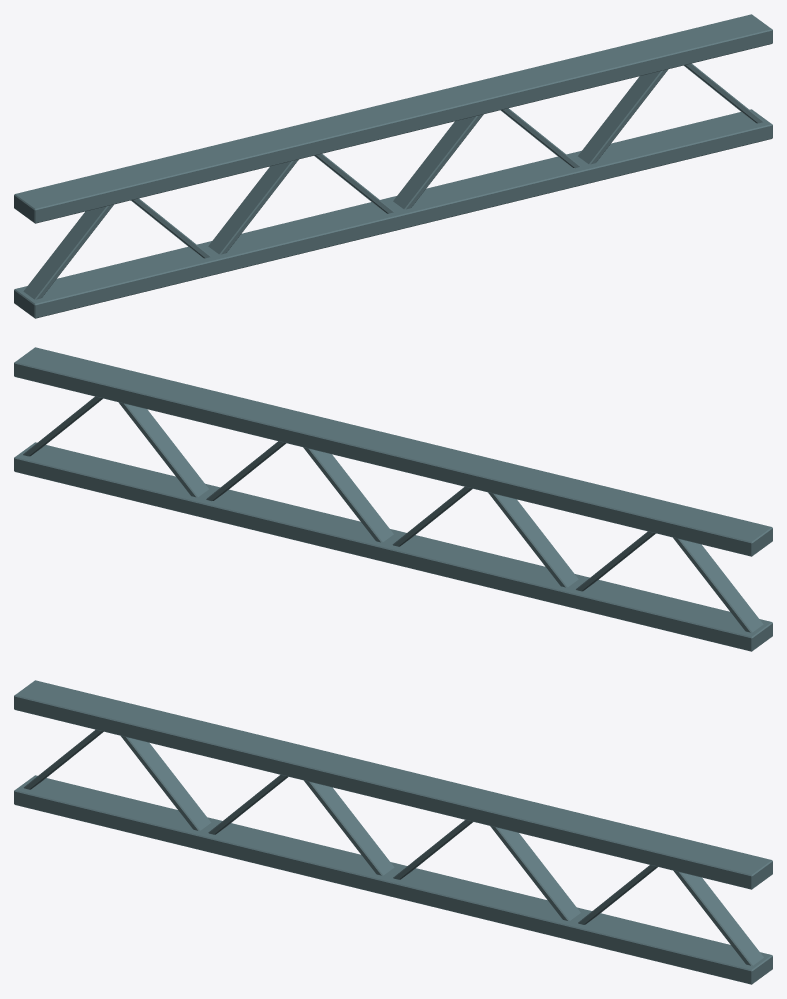
The model's file is truss_straight.glb.
The picture shows the model from 3 angles, top to bottom: view 1: azimuth 30°, elevation 25°; view 2: azimuth 150°, elevation 25°; view 3: azimuth 330°, elevation 25°; orthographic projection.
Parts seen in each view (by area): view 1: Truss_Straight; view 2: Truss_Straight; view 3: Truss_Straight.
Boxes of the visible parts, x1=… form: Truss_Straight: x1=14, y1=14, x2=772, y2=318; Truss_Straight: x1=14, y1=347, x2=772, y2=651; Truss_Straight: x1=14, y1=680, x2=772, y2=984.
Size of the model in its own units: 3.99 by 0.5663 by 0.2.
Materials: 1 (1 with a texture image).
